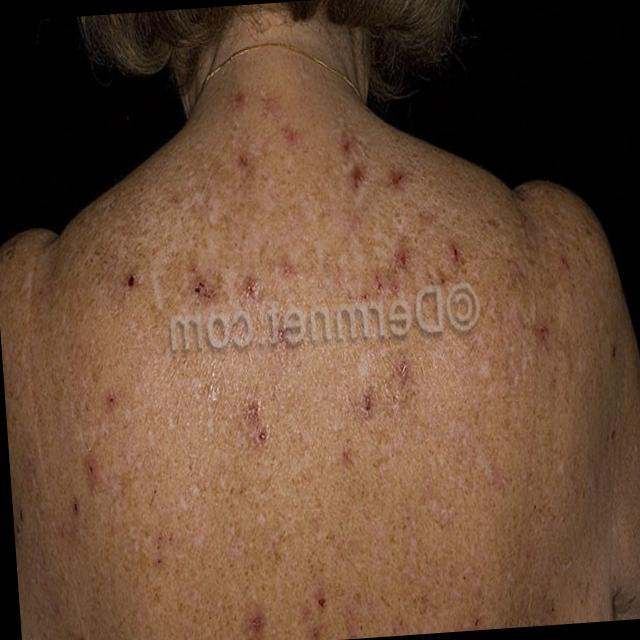Eczema: (34, 97, 544, 634)
